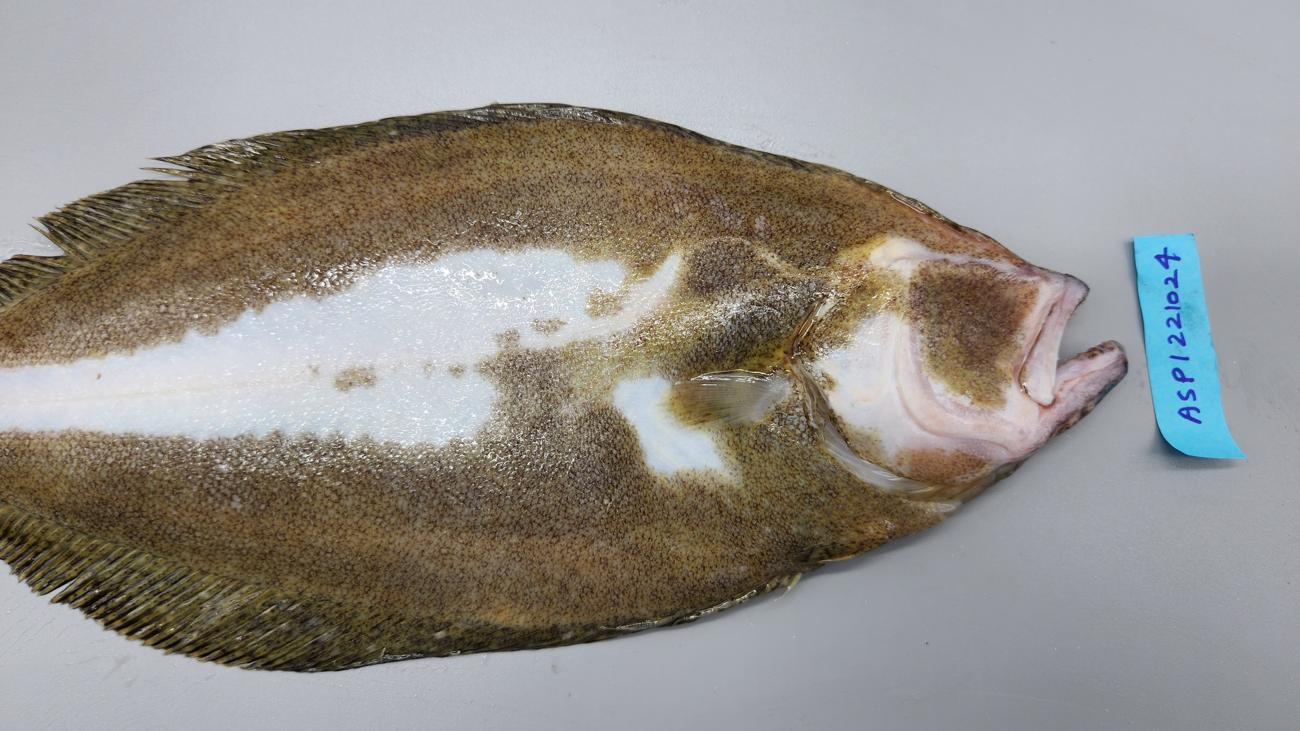SPDYH: (658, 530, 811, 618)
